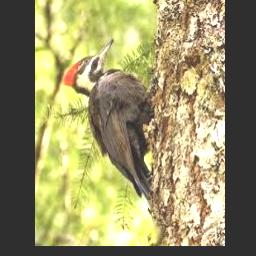Woodpecker: (63, 38, 155, 201)
